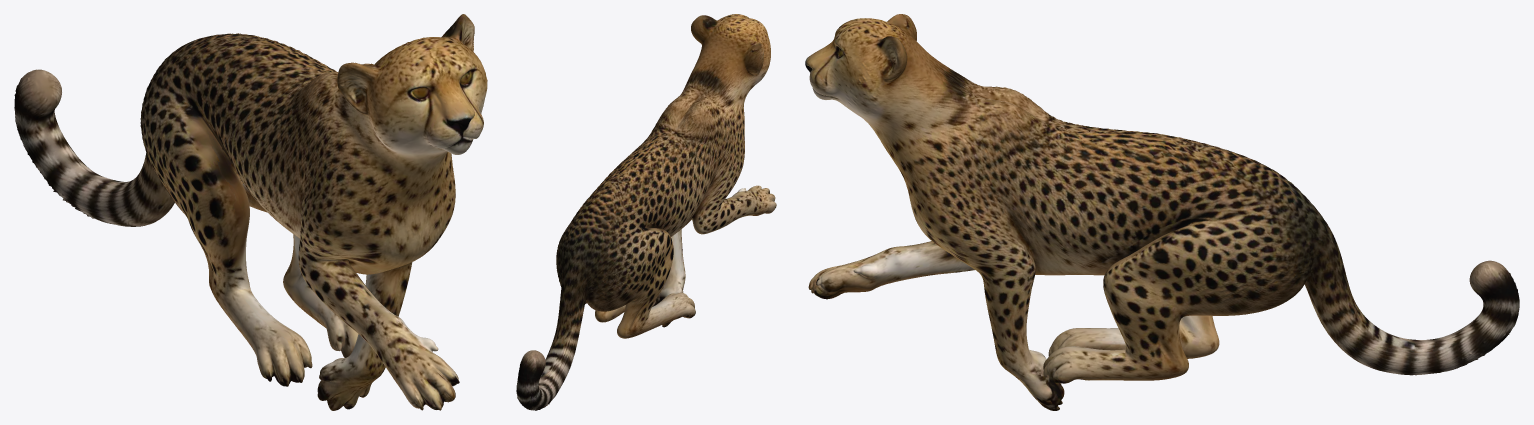
3 views of the same model, side by side, from view 1: azimuth 30°, elevation 25°; view 2: azimuth 150°, elevation 25°; view 3: azimuth 270°, elevation 25° (orthographic). The views are drawn at different scales.
Parts seen in each view (by area): view 1: node_0; view 2: node_0; view 3: node_0.
Boxes of the visible parts, bbox=[...] form: node_0: bbox=[14, 14, 487, 410]; node_0: bbox=[516, 14, 776, 410]; node_0: bbox=[805, 14, 1519, 410].
Bounding box in the file's own units: 7470 × 21049 × 35727.
1 material, 1 textured.
